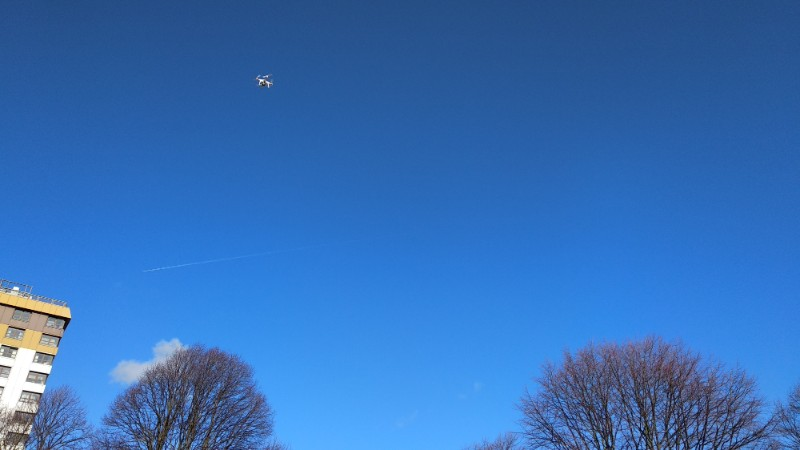drone: (255, 70, 277, 92)
